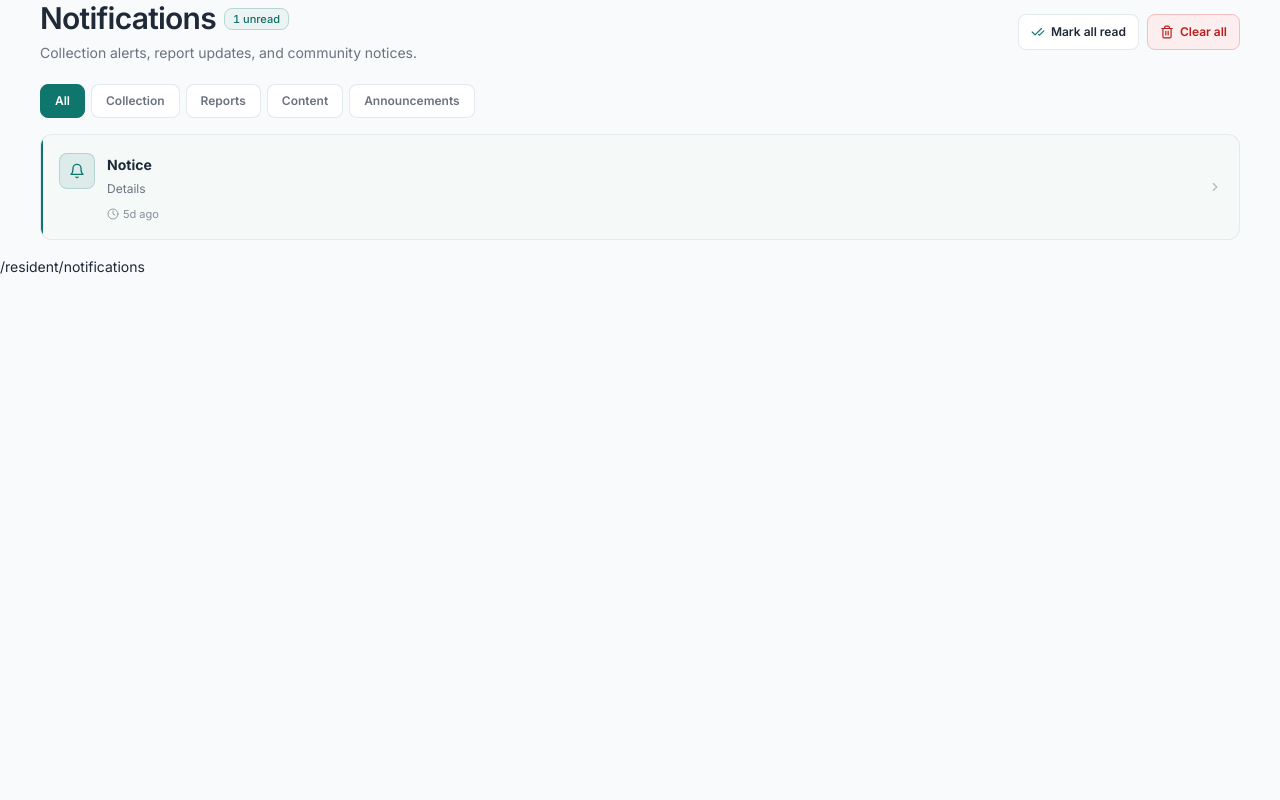
Test case: opens SYSTEM details while its read receipt is still pending
This screenshot has width=1280, height=800.
Click the button with class "resident-notification-row" at {"x": 77, "y": 171}, box top-left (41, 135), bottom-right (1239, 239)
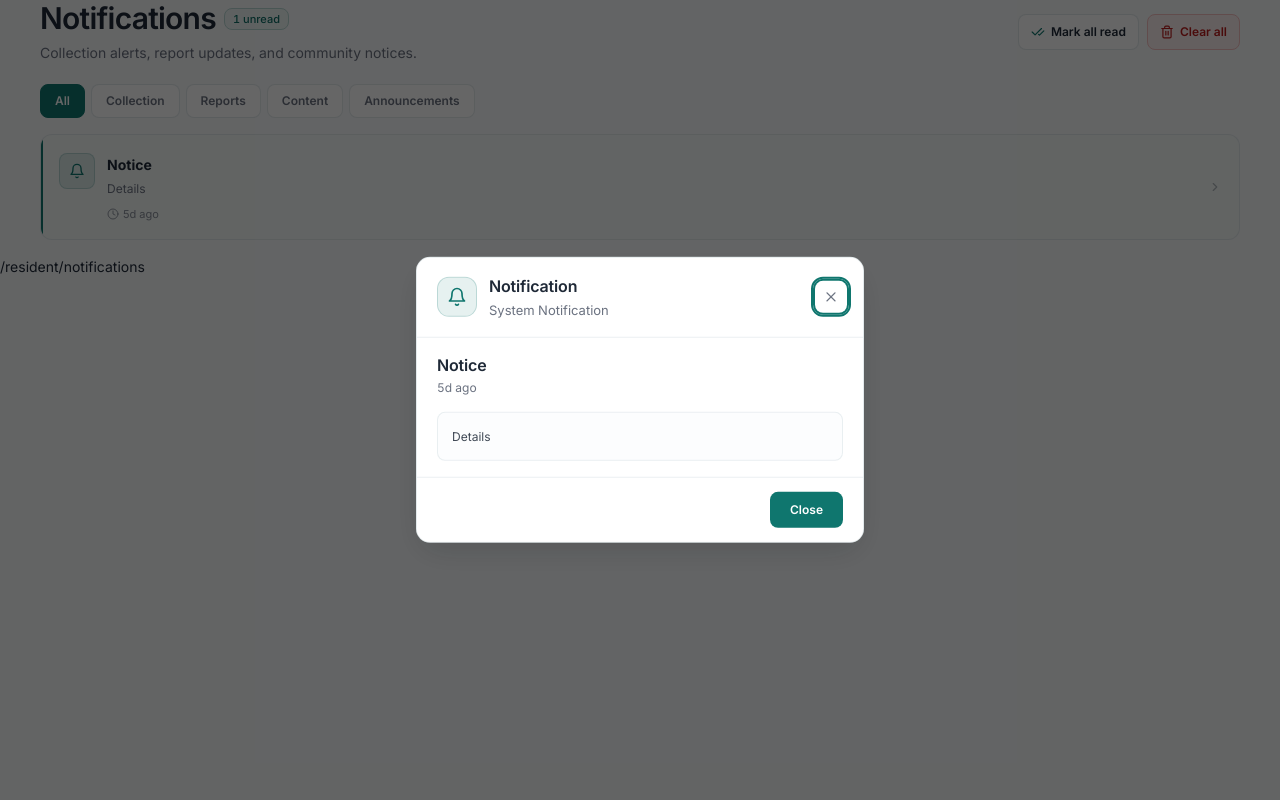
Expected: the dialog shows "Details", top-left (452, 429), bottom-right (490, 444)
